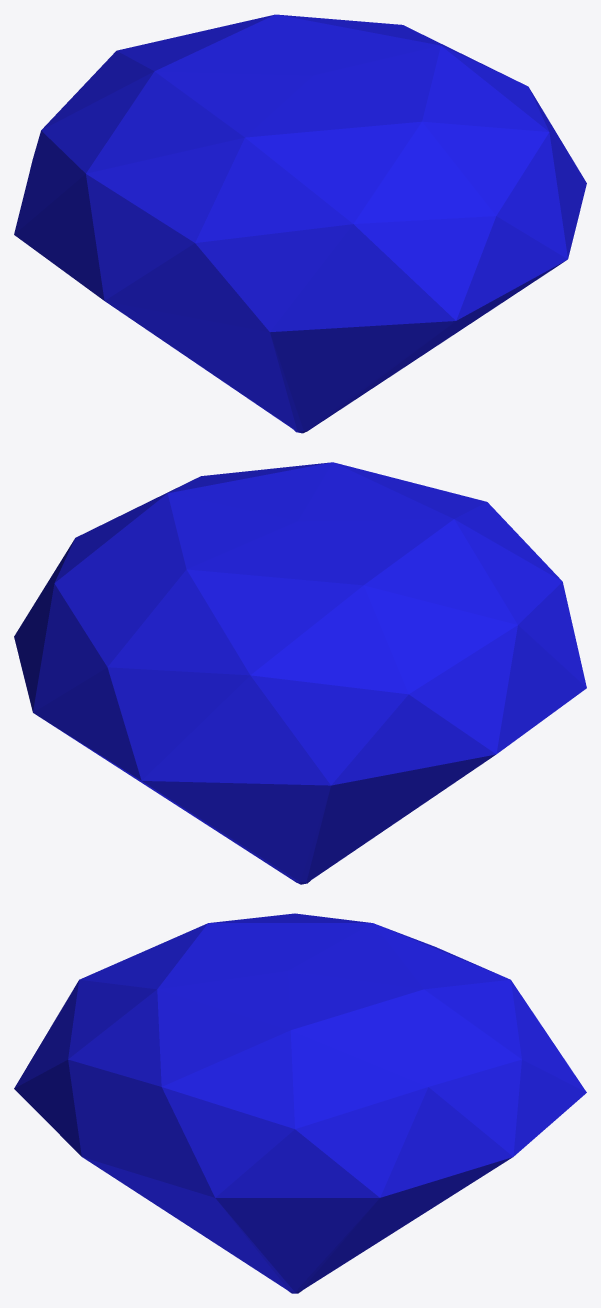
File: Phiras.fbx
3 views of the same model, one above another, from view 1: azimuth 30°, elevation 25°; view 2: azimuth 150°, elevation 25°; view 3: azimuth 270°, elevation 25° (orthographic). The views are drawn at different scales.
Parts seen in each view (by area): view 1: Icosphere; view 2: Icosphere; view 3: Icosphere.
Boxes of the visible parts, x1,y1,x2,y2 form: Icosphere: [14, 14, 586, 433]; Icosphere: [14, 462, 586, 884]; Icosphere: [14, 913, 586, 1293].
Bounding box in the file's own units: 34.2 × 24.23 × 38.61.
